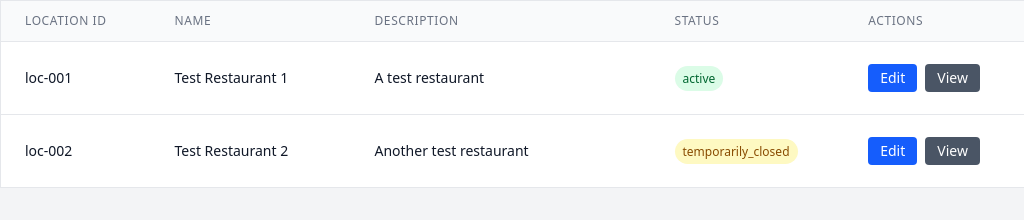
Test: LocationsTable › should show Save and Cancel buttons when Edit is clicked
What coordinates should you click on to do the following:
click the button "Edit" in the row of "loc-001"
I would click on:
 (893, 78)
Its box is [868,64,917,92].
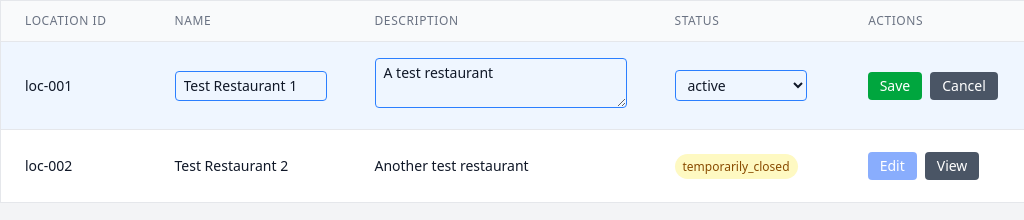
Result: the button "Save" is shown at [868,72,923,100]
Result: the button "Cancel" is shown at [931,72,998,100]
